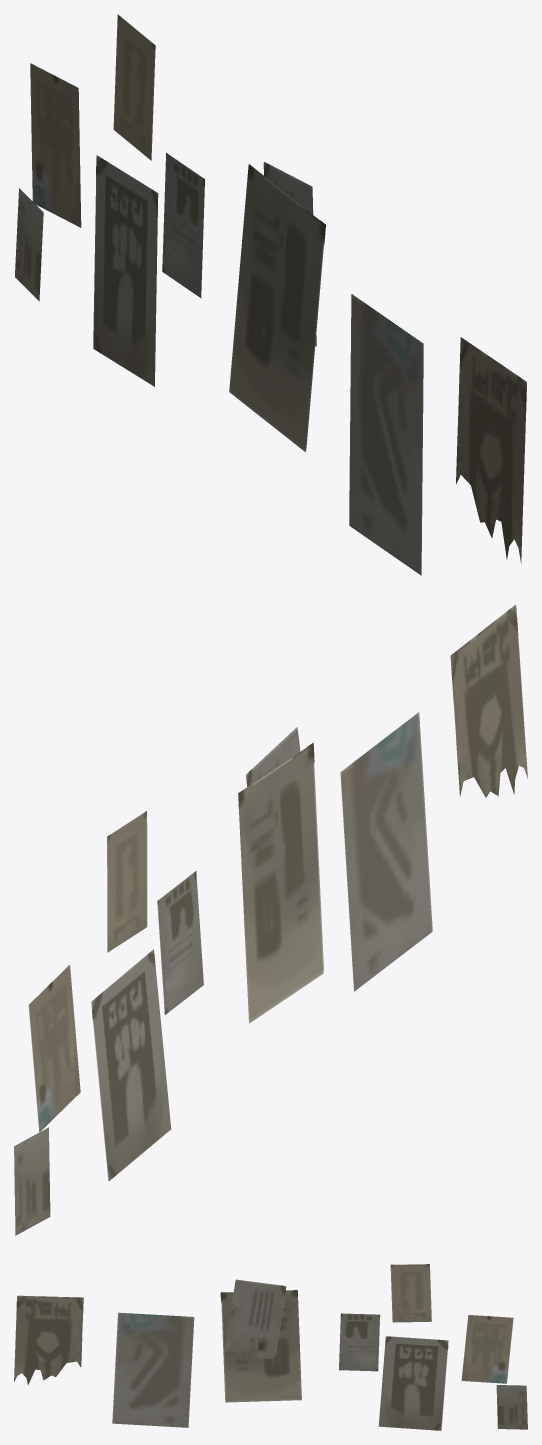
Rendered from AD_Wall.fbx.
3 renders of one model, top to bottom at view 1: azimuth 30°, elevation 25°; view 2: azimuth 150°, elevation 25°; view 3: azimuth 270°, elevation 25°, orthographic. The views are drawn at different scales.
Visible parts, largest first — view 1: AD_Wall; view 2: AD_Wall; view 3: AD_Wall.
Boxes of the visible parts, bbox=[...] form: AD_Wall: bbox=[15, 14, 526, 575]; AD_Wall: bbox=[14, 604, 527, 1235]; AD_Wall: bbox=[14, 1264, 527, 1430].
Size of the model in its own units: 9.54 by 164 by 449.
